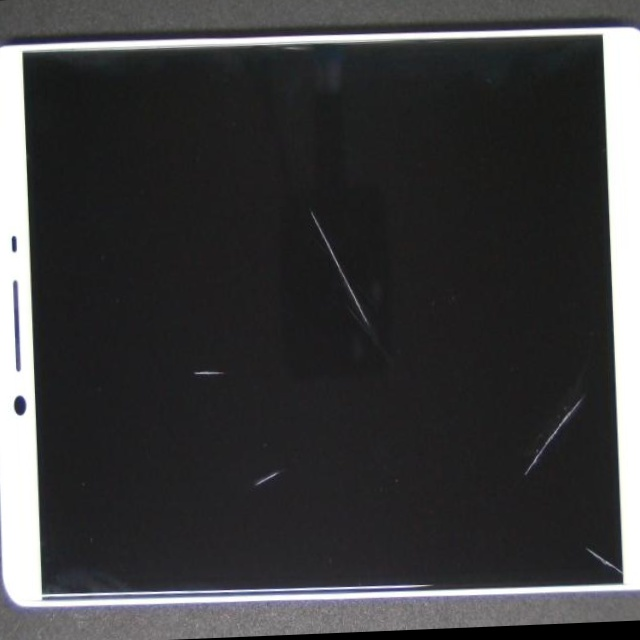scratch: (309, 127, 640, 622), (84, 0, 495, 392), (154, 195, 434, 640), (319, 258, 640, 633)
